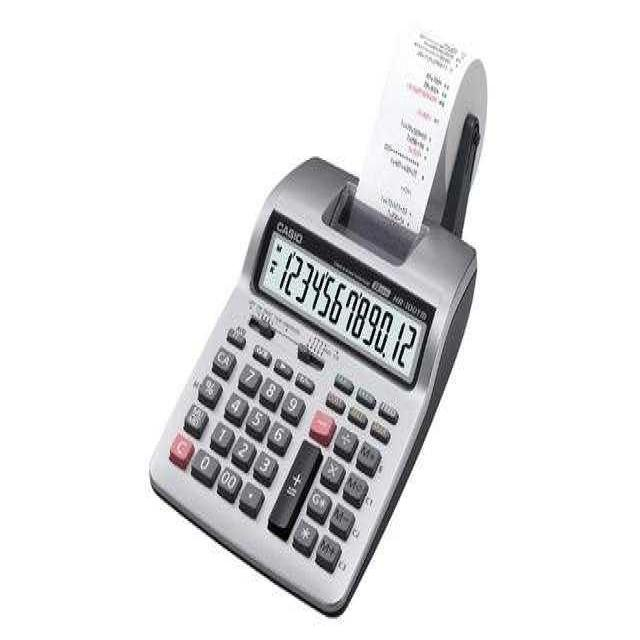Calculator: (147, 28, 488, 617)
